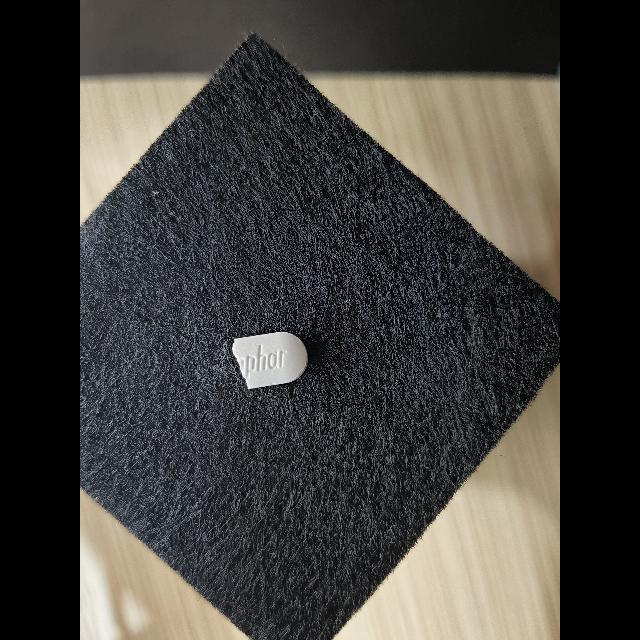Chipped Pill: (231, 332, 308, 389)
